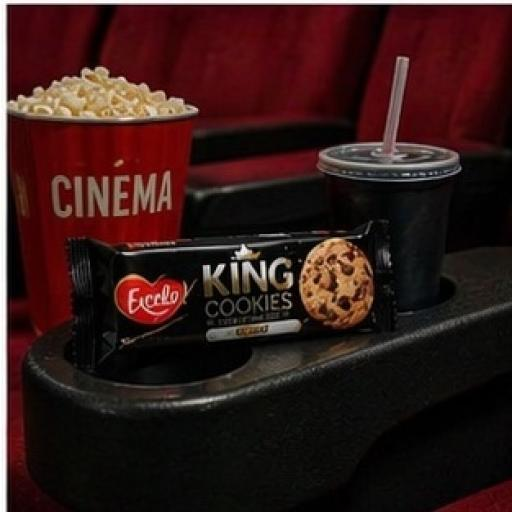king-cooking: (50, 180, 440, 386)
